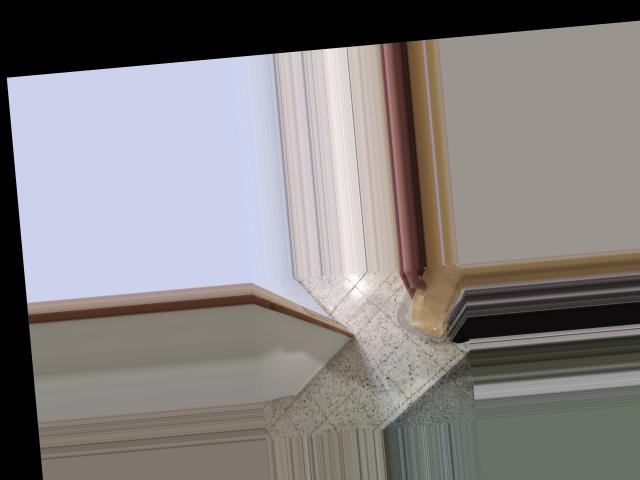cheese: (394, 261, 470, 345)
